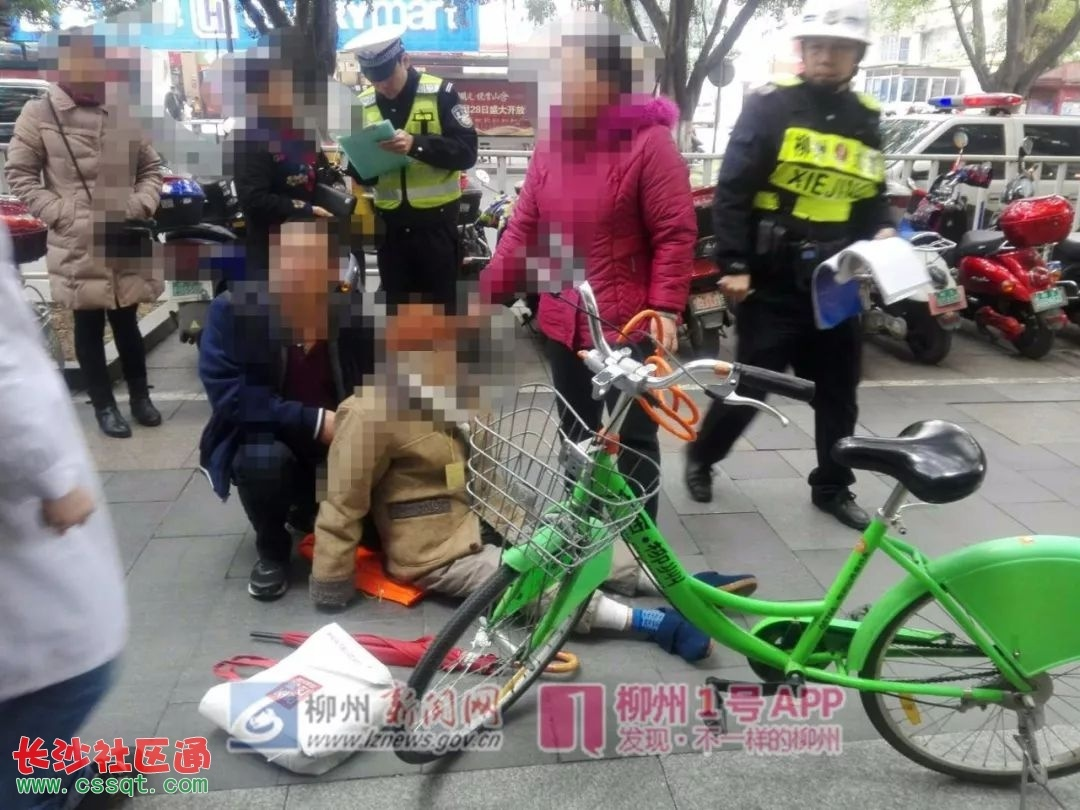falling: (311, 266, 764, 704)
